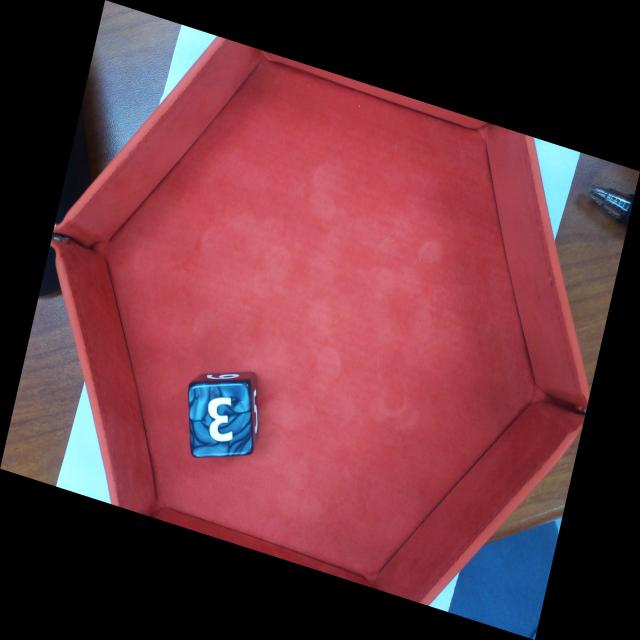dice: (191, 385, 250, 453)
